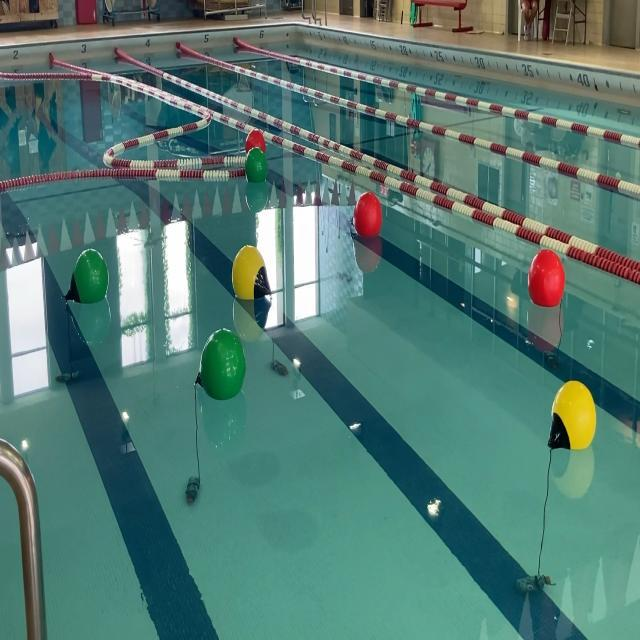buoy: (194, 327, 247, 402), (550, 378, 598, 452), (232, 244, 274, 302), (66, 248, 108, 304), (530, 250, 566, 310), (349, 192, 383, 242), (245, 146, 269, 186), (244, 128, 267, 158)
